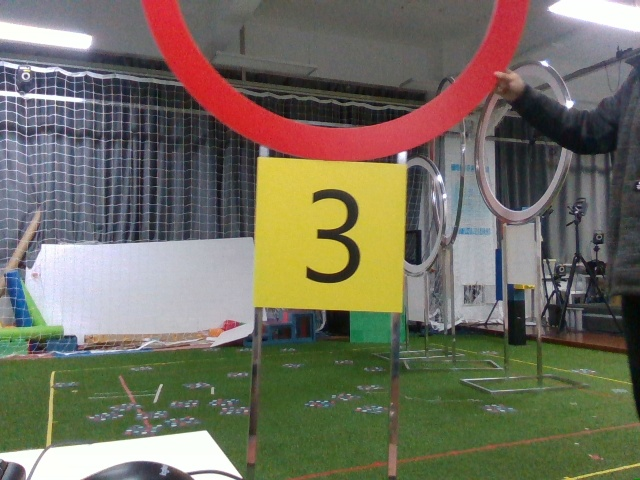target: (259, 160, 398, 308)
